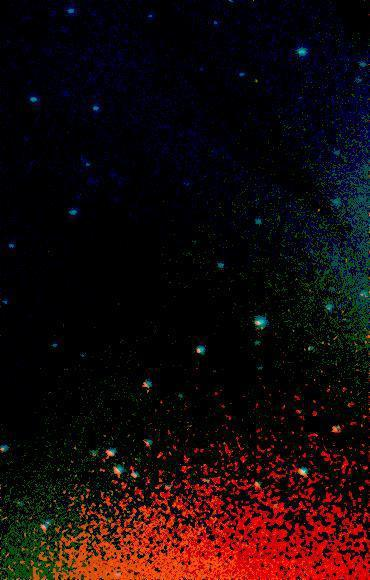star: (240, 66, 270, 96)
